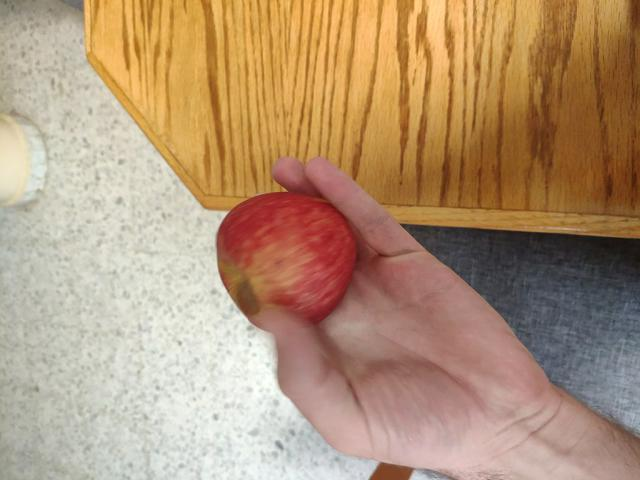apple: (209, 194, 359, 333)
